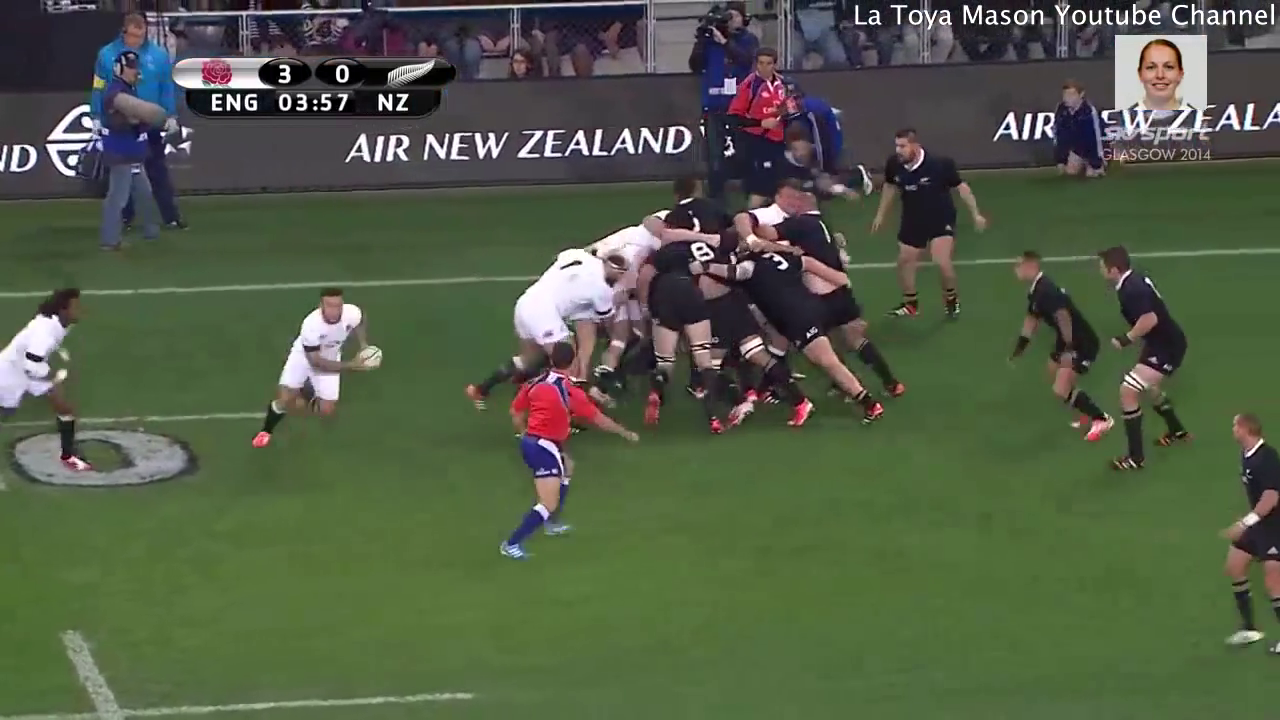10_metre: (1, 613, 486, 720)
player: (485, 338, 647, 566), (755, 193, 909, 402), (461, 237, 634, 417), (732, 235, 890, 427), (1093, 240, 1209, 486), (864, 127, 993, 340), (993, 240, 1123, 449), (246, 286, 381, 458), (623, 251, 733, 446), (1, 276, 104, 480), (1208, 409, 1280, 661), (719, 43, 792, 201), (746, 114, 850, 215), (658, 156, 735, 260)
